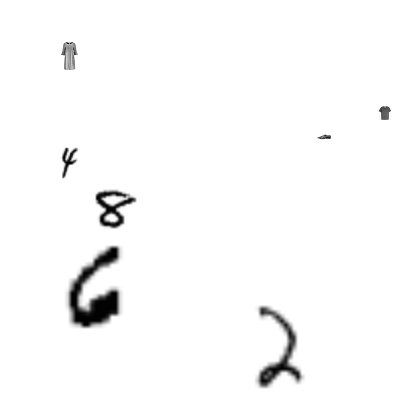2: (220, 295, 332, 407)
4: (46, 139, 88, 181)
6: (38, 235, 150, 347)
8: (84, 178, 140, 234)
Dress: (55, 42, 83, 70)
Sneaker: (317, 130, 331, 144)
T-shirt/top: (378, 106, 392, 120)
